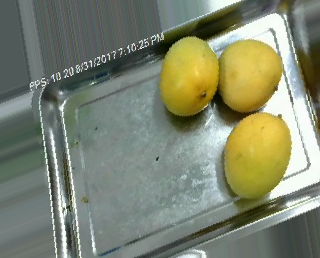Mango: (225, 112, 291, 197), (159, 36, 220, 114), (219, 39, 282, 111)
